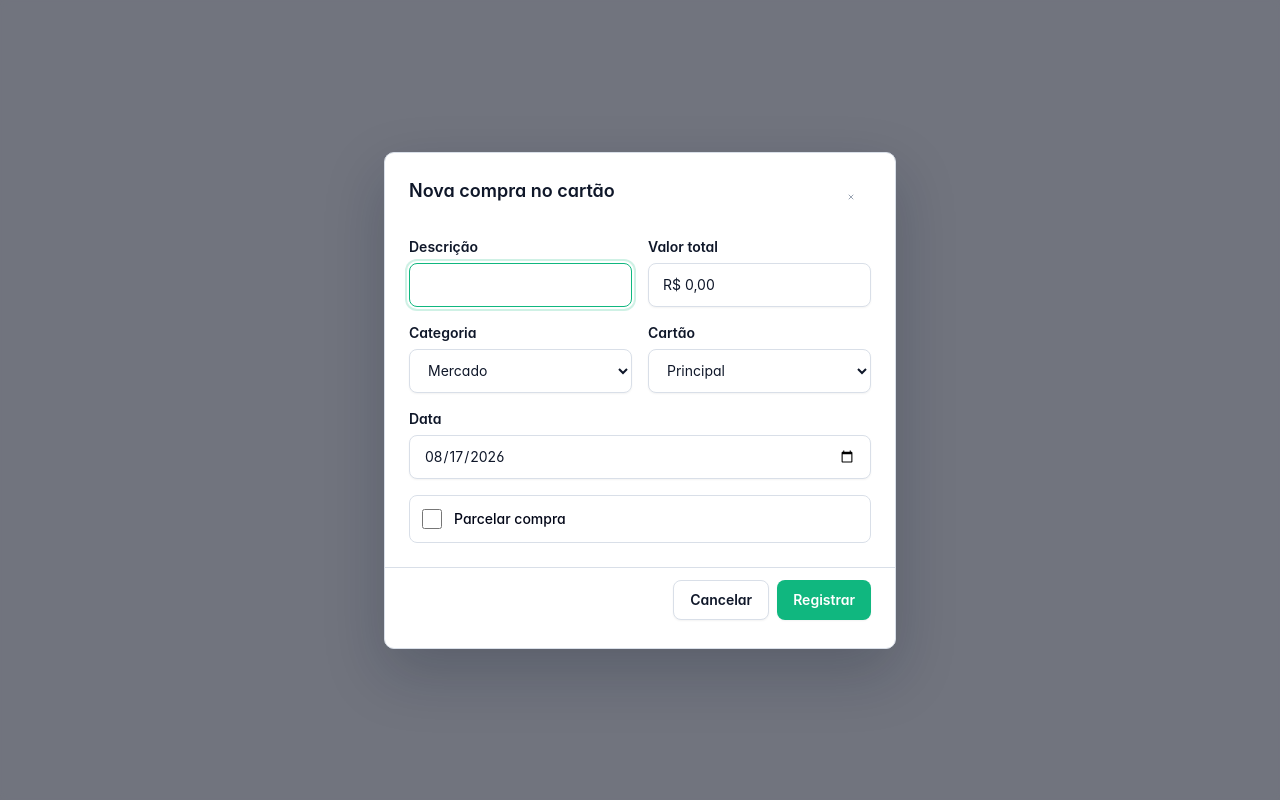
PurchaseFormModal › exibe erros junto aos campos e foca o primeiro inválido
Click the button "Registrar".
click(824, 600)  # box [777,580,871,620]
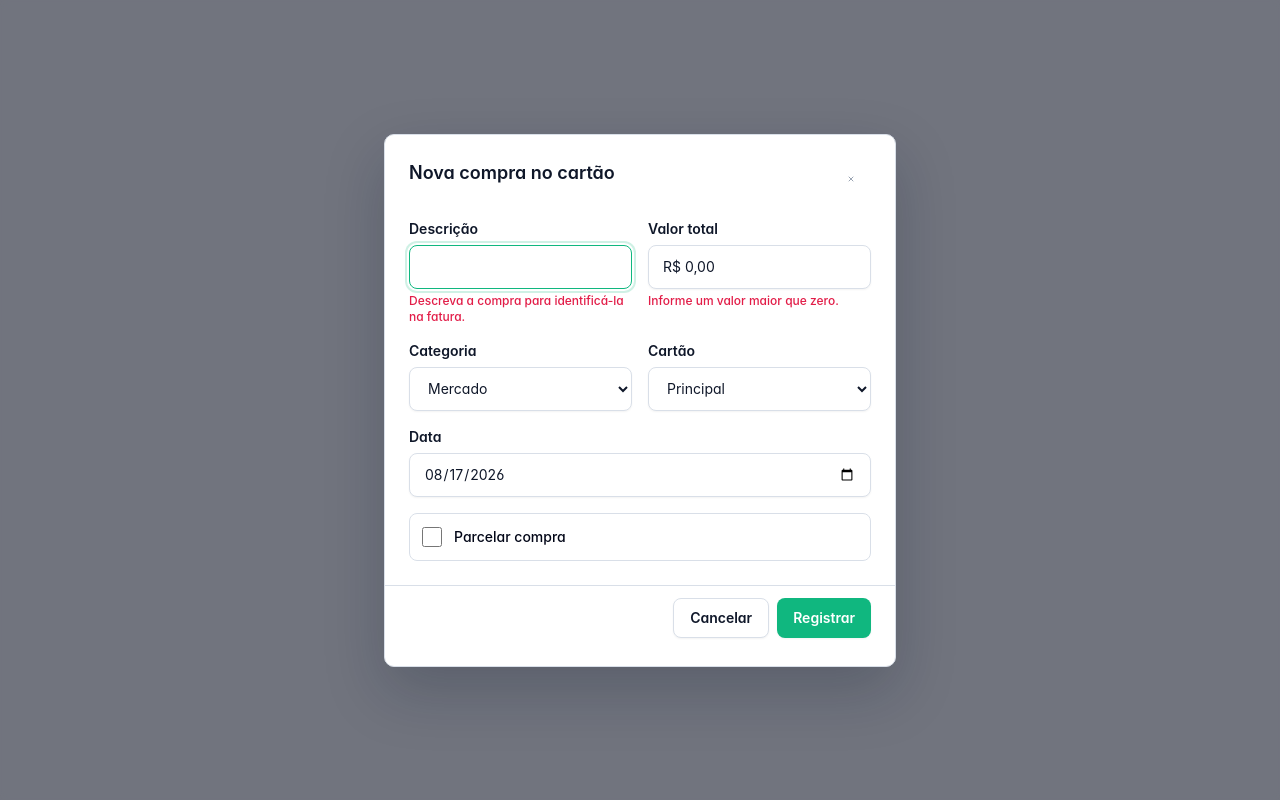
Expected: the text "Descreva a compra para identificá-la na fatura." is shown, [409,292,632,324]
